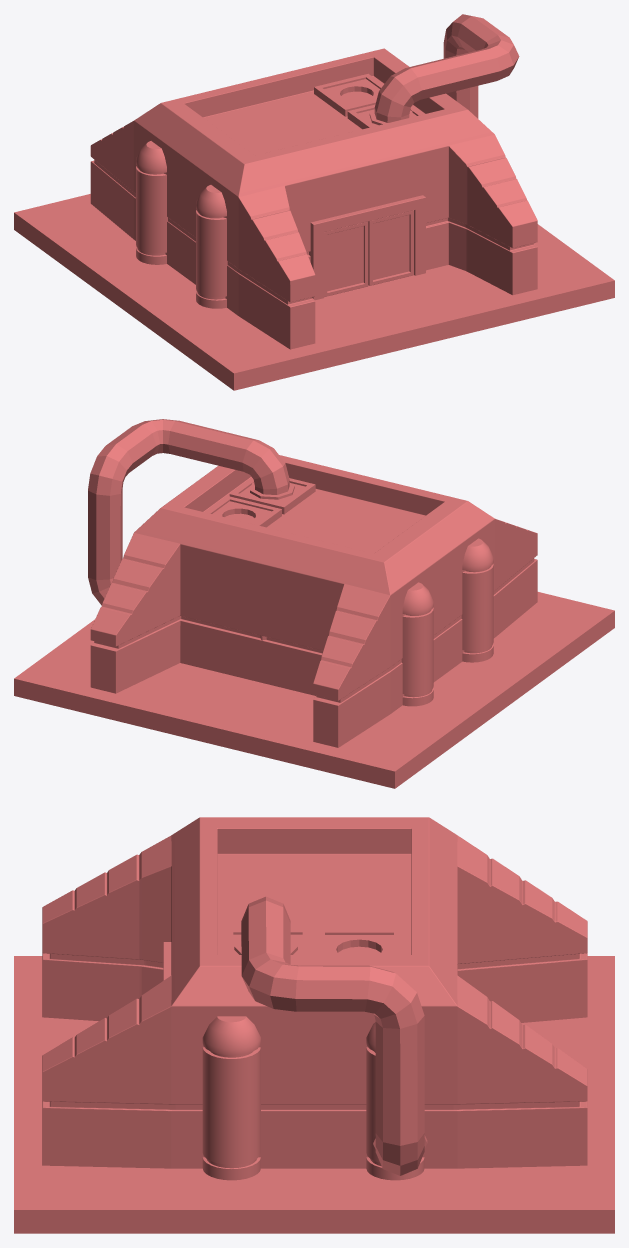
The model's file is warehouse.fbx.
The picture shows the model from 3 angles, top to bottom: view 1: azimuth 30°, elevation 25°; view 2: azimuth 150°, elevation 25°; view 3: azimuth 270°, elevation 25°; orthographic projection. The views are drawn at different scales.
Parts seen in each view (by area): view 1: Cube.001, Cube, Plane.002, Cylinder, Plane, Plane.001; view 2: Cube.001, Cube, Plane.002, Cylinder, Plane, Plane.001; view 3: Cube.001, Cube, Plane.002, Cylinder, Plane, Plane.001.
Boxes of the visible parts, <box> form: Cube.001: <box>90,48,537,349</box>; Cube: <box>14,194,614,390</box>; Plane.002: <box>369,14,519,125</box>; Cylinder: <box>136,141,227,308</box>; Plane: <box>314,73,383,116</box>; Plane.001: <box>347,104,423,129</box>; Cube.001: <box>90,455,537,747</box>; Cube: <box>14,592,614,788</box>; Plane.002: <box>88,419,294,605</box>; Cylinder: <box>401,538,493,706</box>; Plane: <box>205,496,281,527</box>; Plane.001: <box>229,478,315,514</box>; Cube.001: <box>42,817,587,1168</box>; Cube: <box>14,956,614,1233</box>; Plane.002: <box>234,896,427,1175</box>; Cylinder: <box>202,1016,424,1180</box>; Plane: <box>316,929,402,954</box>; Plane.001: <box>225,928,310,954</box>.
Size of the model in its own units: 713 by 336 by 708.
